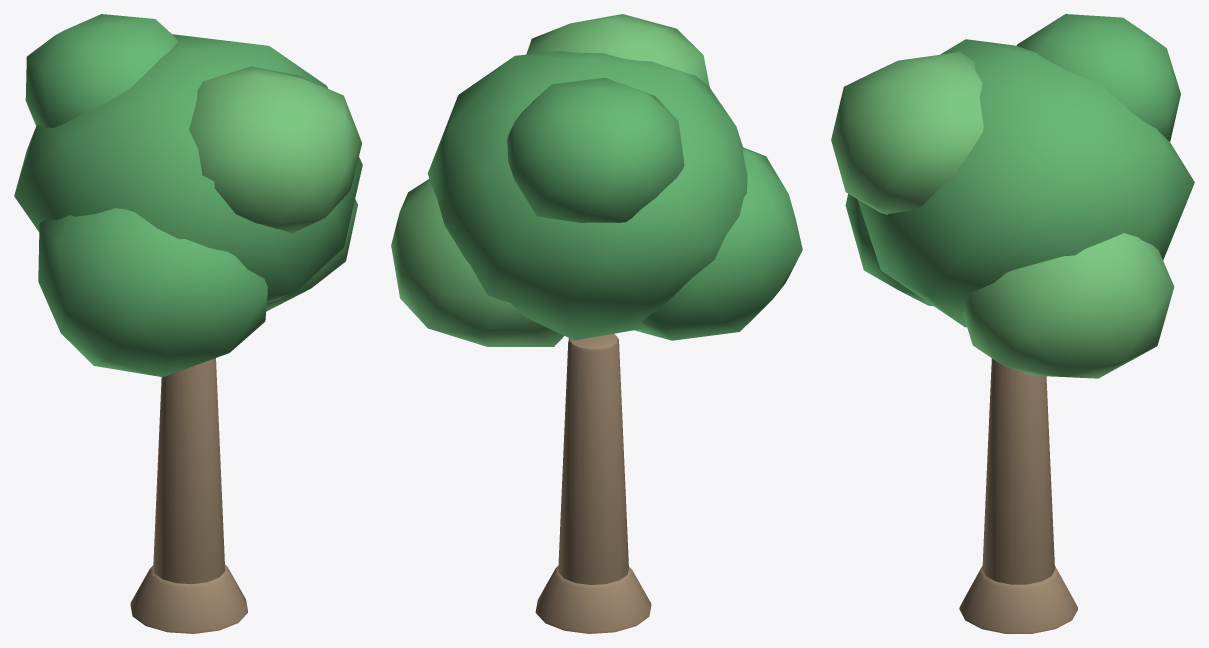
Rendered from prop_tree.glb.
3 views of the same model, side by side, from view 1: azimuth 30°, elevation 25°; view 2: azimuth 150°, elevation 25°; view 3: azimuth 270°, elevation 25° (orthographic).
Parts seen in each view (by area): view 1: tree; view 2: tree; view 3: tree.
Part boxes in pixels (x1,y1,x2,y2): tree: [14, 14, 362, 633]; tree: [391, 14, 802, 633]; tree: [831, 14, 1194, 633].
Size of the model in its own units: 51.41 by 81.88 by 47.76.
